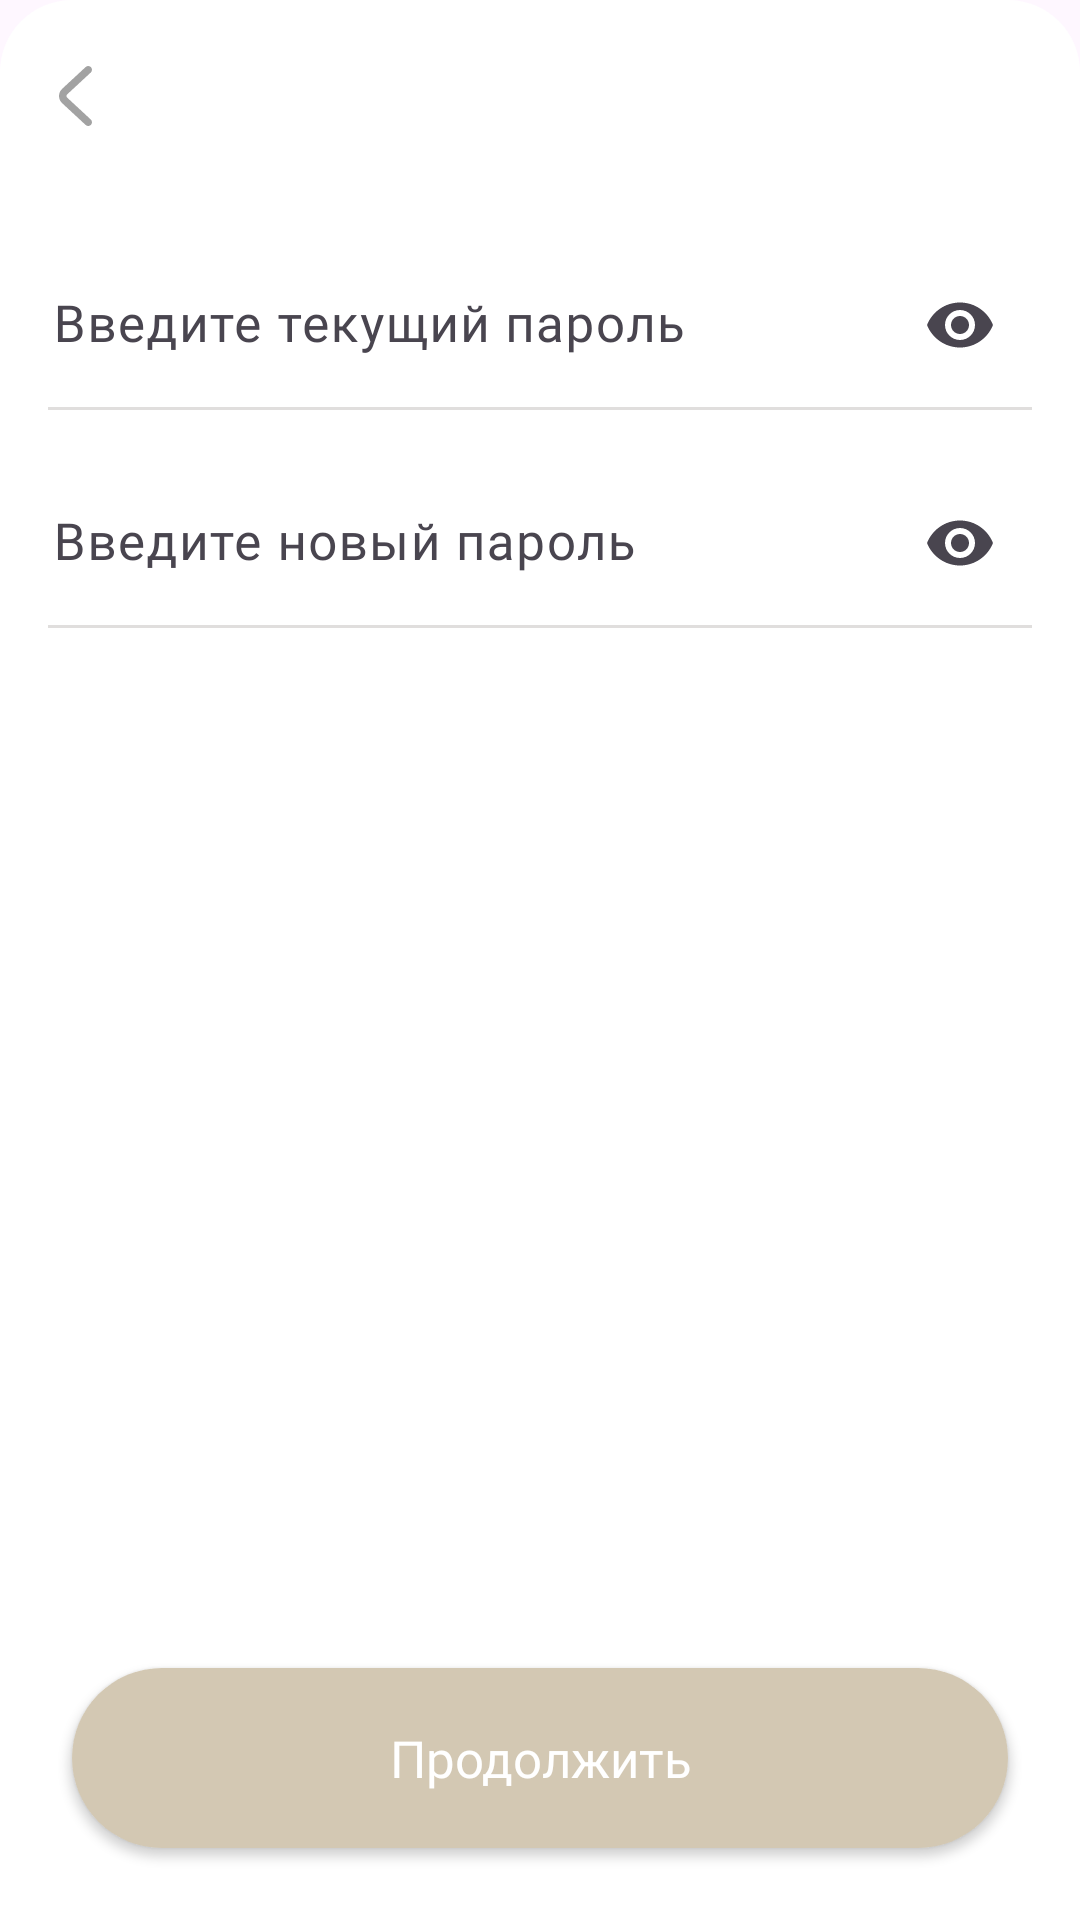

Point at icon controls on the screen. Image size 1080px×1920px, points as [x,y].
back: [75,96]
